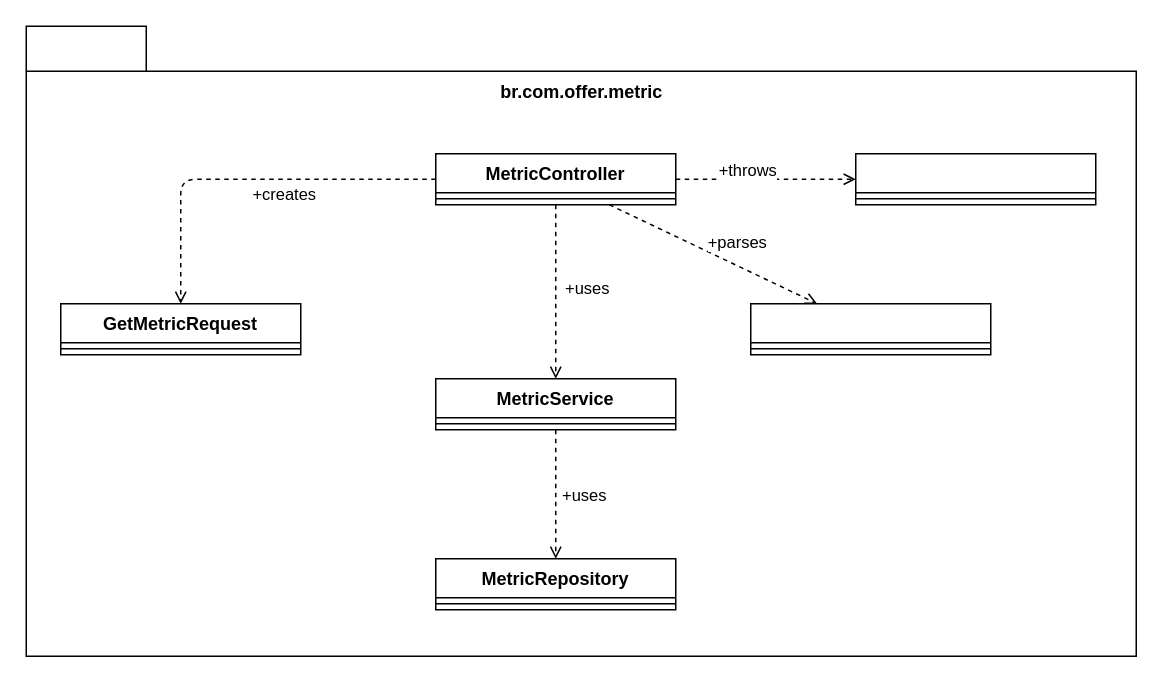
Image size: 1163x683. Some labels were removed from this diagram. The shapes that lost their labels are listed below. From the top down, each one's box as (x1, y1, x2, y2) in pixels, then its label:
(854, 152, 1096, 205): MetricException
(749, 302, 991, 355): GetMetricResponse
